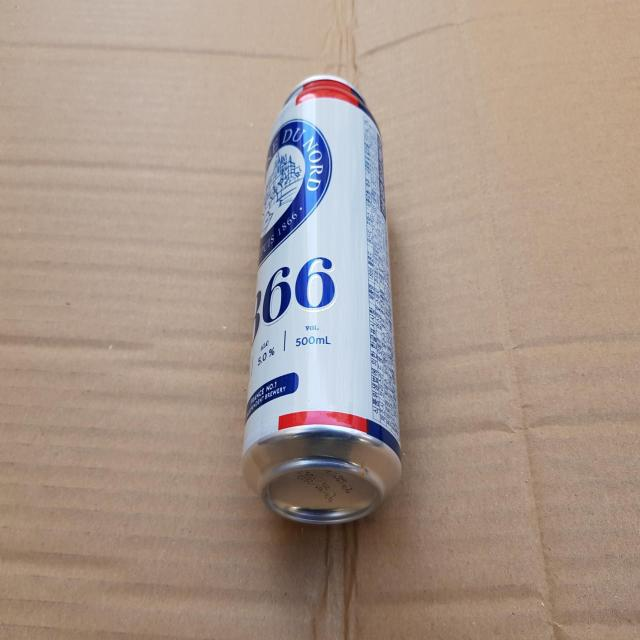can: (242, 74, 402, 524)
